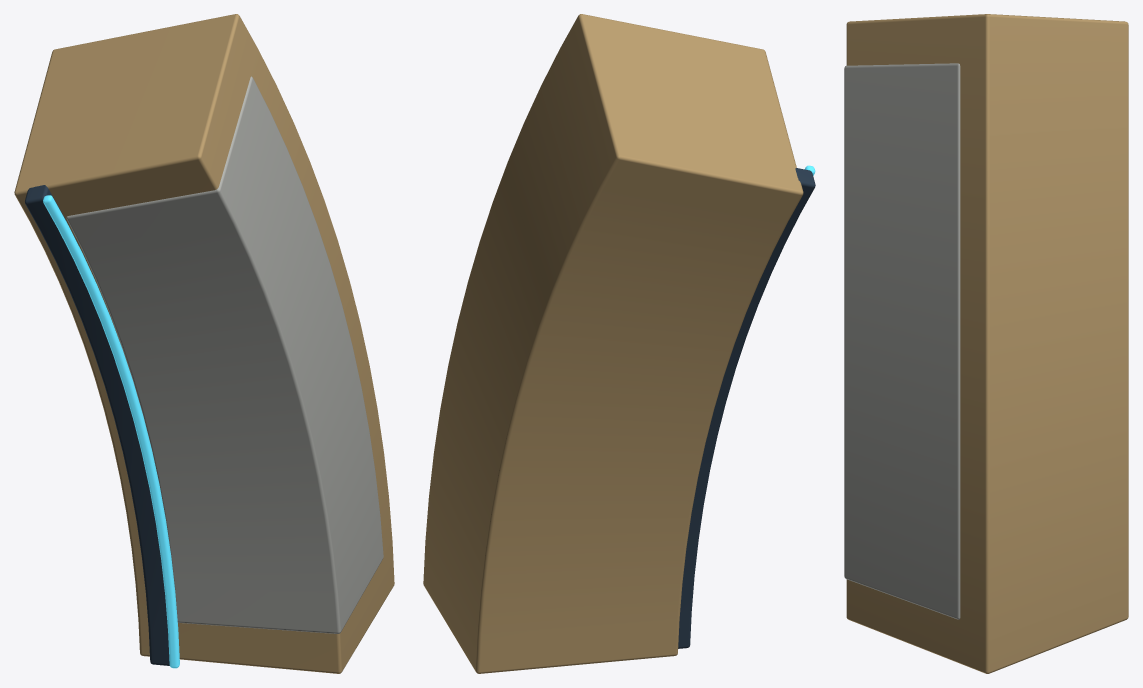
Rendered from SM_HC2_BeatHalo_041.fbx.
3 renders of one model, left to right at view 1: azimuth 30°, elevation 25°; view 2: azimuth 150°, elevation 25°; view 3: azimuth 270°, elevation 25°, orthographic. The views are drawn at different scales.
Parts seen in each view (by area): view 1: SM_HC2_BeatHalo_041; view 2: SM_HC2_BeatHalo_041; view 3: SM_HC2_BeatHalo_041.
Part boxes in pixels (bbox=[...]): SM_HC2_BeatHalo_041: bbox=[14, 14, 394, 673]; SM_HC2_BeatHalo_041: bbox=[423, 14, 815, 673]; SM_HC2_BeatHalo_041: bbox=[844, 14, 1128, 673].
Bounding box in the file's own units: 196 × 132 × 304.
